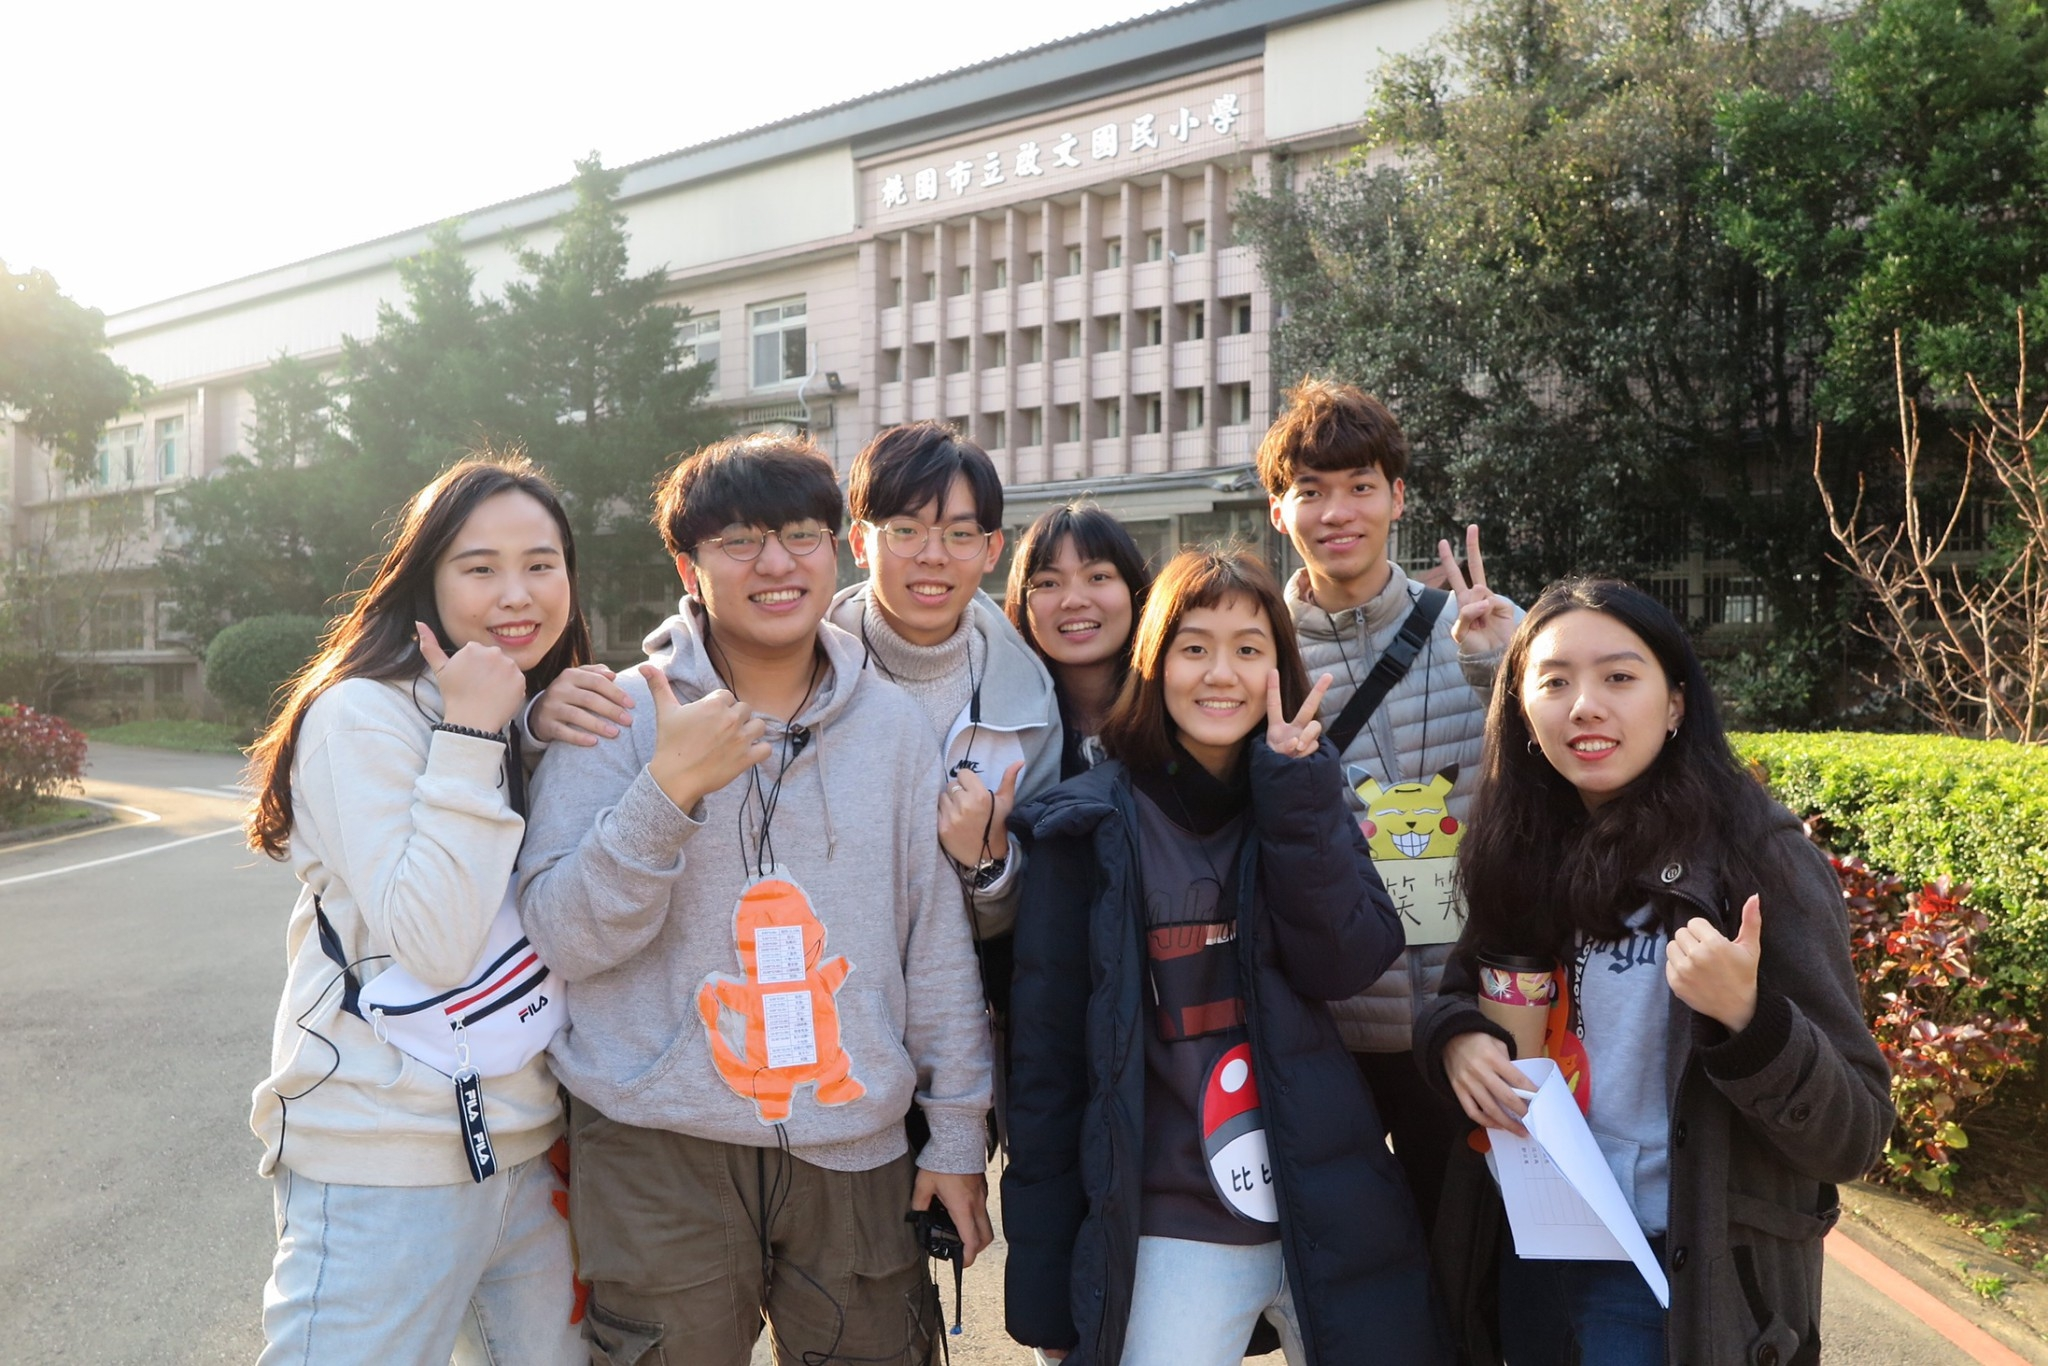people: (619, 428, 922, 1366), (1463, 578, 1796, 1366), (337, 464, 593, 1366), (1128, 514, 1337, 1366), (1281, 375, 1499, 1081), (860, 364, 1013, 1170), (1016, 505, 1143, 773)
